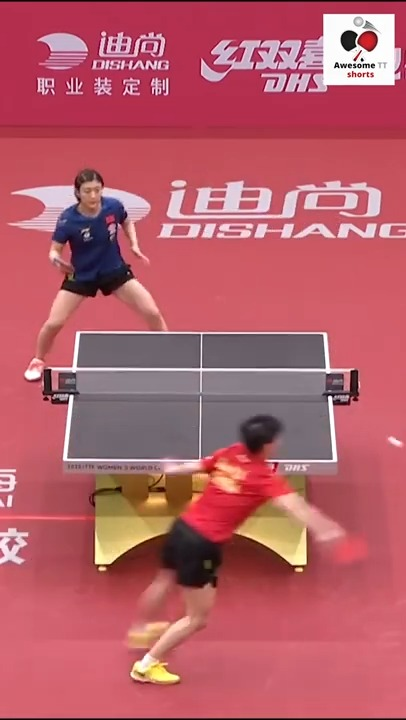Ball: (386, 434, 402, 450)
